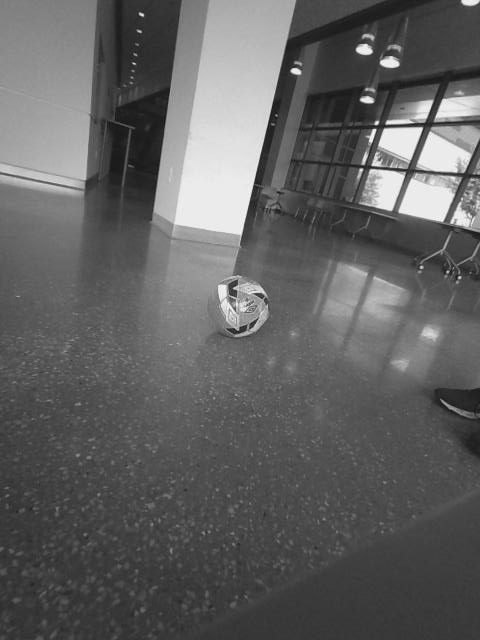ball: (207, 273, 274, 340)
